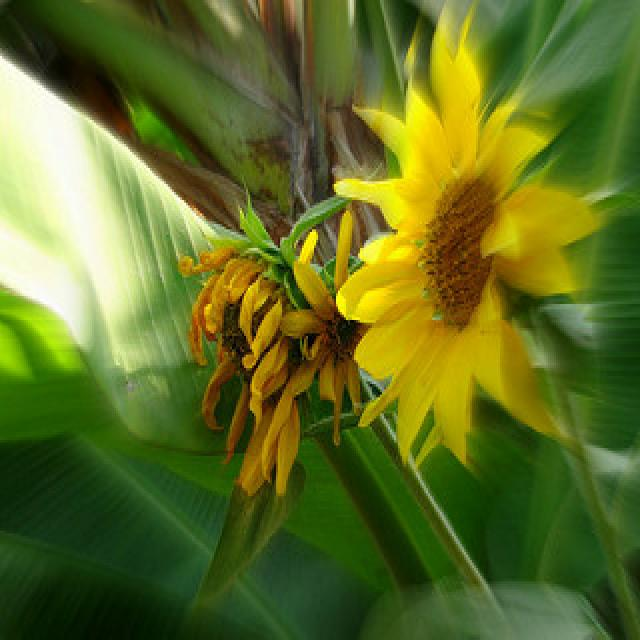sunflower: (336, 10, 585, 457), (182, 241, 336, 497)
